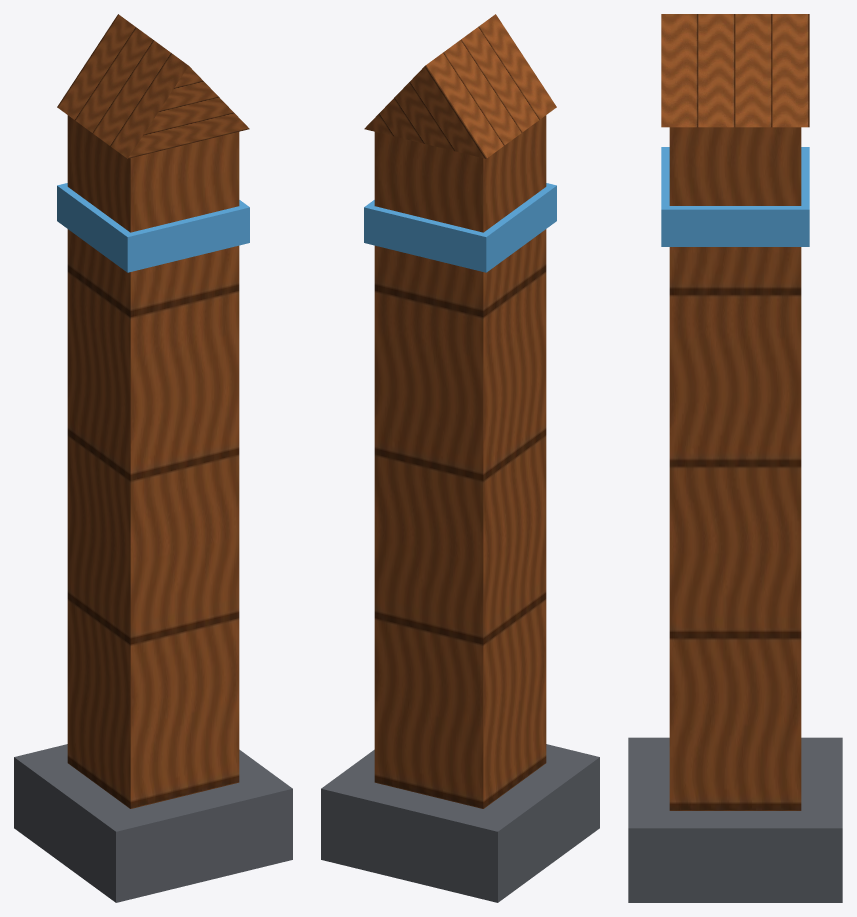
File: 33680-Timber-Park-Bollard-City-Park-and-Playground.glb
3 renders of one model, left to right at view 1: azimuth 30°, elevation 25°; view 2: azimuth 150°, elevation 25°; view 3: azimuth 270°, elevation 25°, orthographic. The views are drawn at different scales.
Parts seen in each view (by area): view 1: park-bollard-timber, park-bollard-charcoal, park-bollard-azure; view 2: park-bollard-timber, park-bollard-charcoal, park-bollard-azure; view 3: park-bollard-timber, park-bollard-charcoal, park-bollard-azure.
Part boxes in pixels (bbox=[...]): park-bollard-timber: bbox=[57, 14, 249, 808]; park-bollard-charcoal: bbox=[14, 744, 292, 902]; park-bollard-azure: bbox=[57, 183, 249, 272]; park-bollard-timber: bbox=[364, 14, 556, 808]; park-bollard-charcoal: bbox=[321, 744, 599, 902]; park-bollard-azure: bbox=[364, 183, 556, 272]; park-bollard-timber: bbox=[661, 14, 809, 810]; park-bollard-charcoal: bbox=[628, 737, 842, 902]; park-bollard-azure: bbox=[661, 147, 809, 246].
Size of the model in its own units: 0.26 by 1.13 by 0.26.
Materials: 3 (1 with a texture image).
